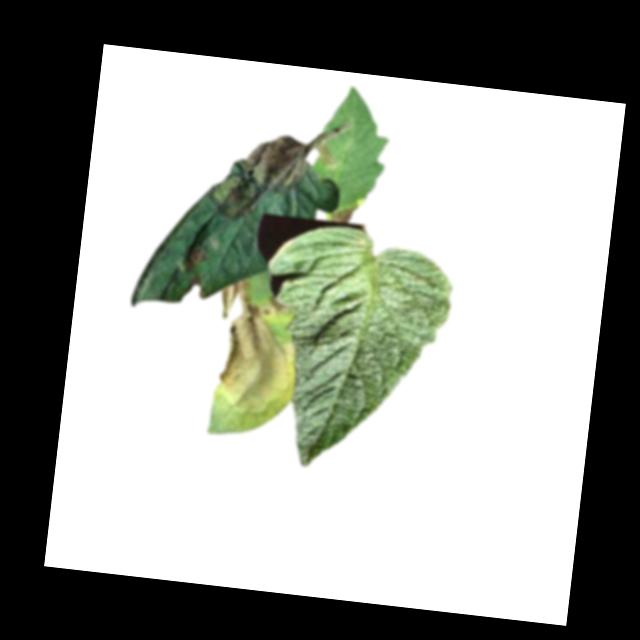Late_blight: (206, 274, 294, 416), (215, 127, 312, 230), (181, 245, 209, 276), (329, 204, 355, 225)
healthy: (244, 217, 457, 481)
